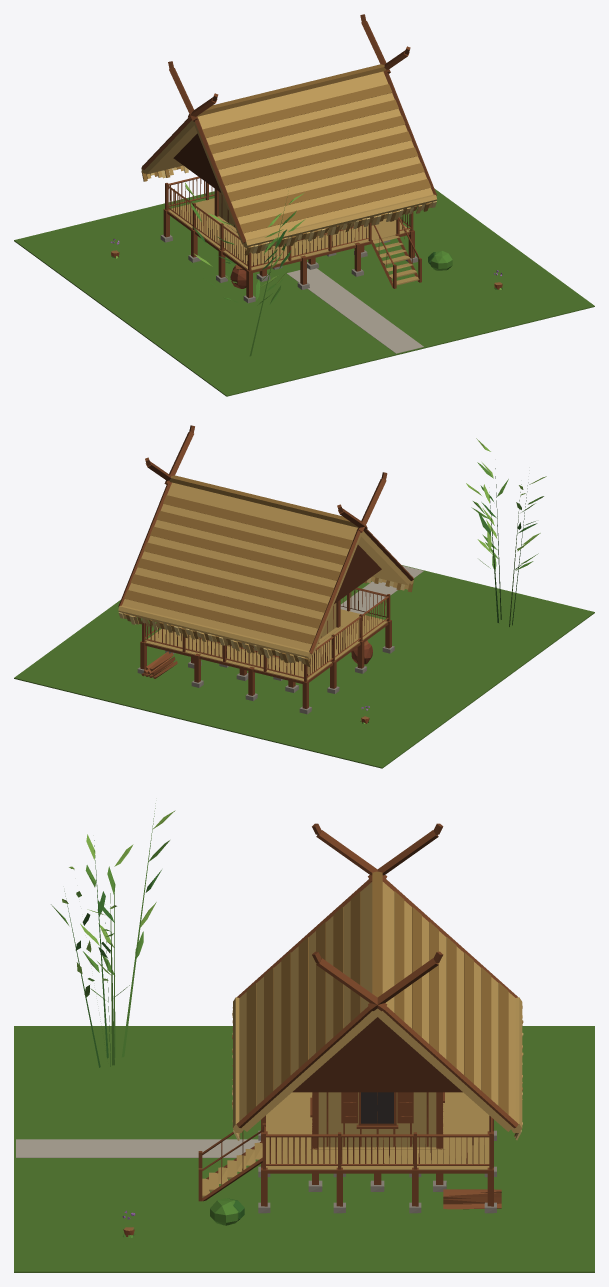
The model's file is home_1.glb.
3 renders of one model, top to bottom at view 1: azimuth 30°, elevation 25°; view 2: azimuth 150°, elevation 25°; view 3: azimuth 270°, elevation 25°, orthographic. The views are drawn at different scales.
Visible parts, largest first — view 1: body; view 2: body; view 3: body, windows.
Boxes of the visible parts, left/top/right/bottom form: body: left=14, top=14, right=594, bottom=396; body: left=14, top=425, right=594, bottom=768; body: left=14, top=803, right=594, bottom=1272; windows: left=361, top=1092, right=393, bottom=1123.
Size of the model in its own units: 15.9 by 8.37 by 15.9.
